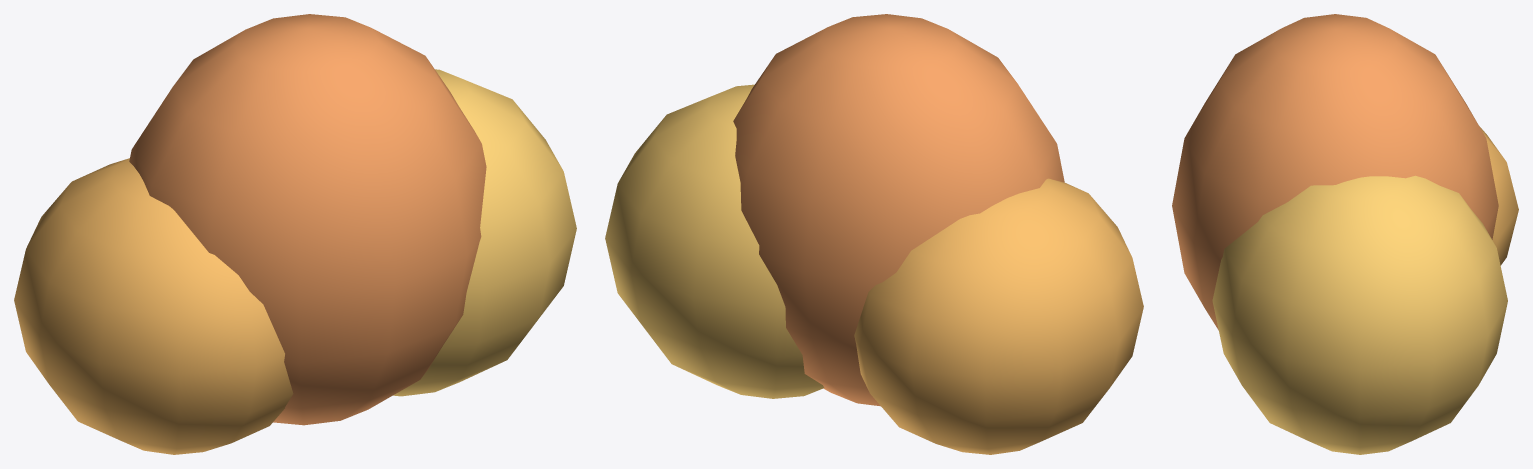
The model's file is shrub_autumn.glb.
The picture shows the model from 3 angles, left to right: view 1: azimuth 30°, elevation 25°; view 2: azimuth 150°, elevation 25°; view 3: azimuth 270°, elevation 25°; orthographic projection. The views are drawn at different scales.
Parts seen in each view (by area): view 1: Base_Shrub (×3); view 2: Base_Shrub (×3); view 3: Base_Shrub (×3).
Boxes of the visible parts, bbox=[...] form: Base_Shrub (×3): bbox=[14, 14, 576, 454]; Base_Shrub (×3): bbox=[605, 14, 1143, 454]; Base_Shrub (×3): bbox=[1172, 14, 1518, 454].
Size of the model in its own units: 1.77 by 1.27 by 1.12.
